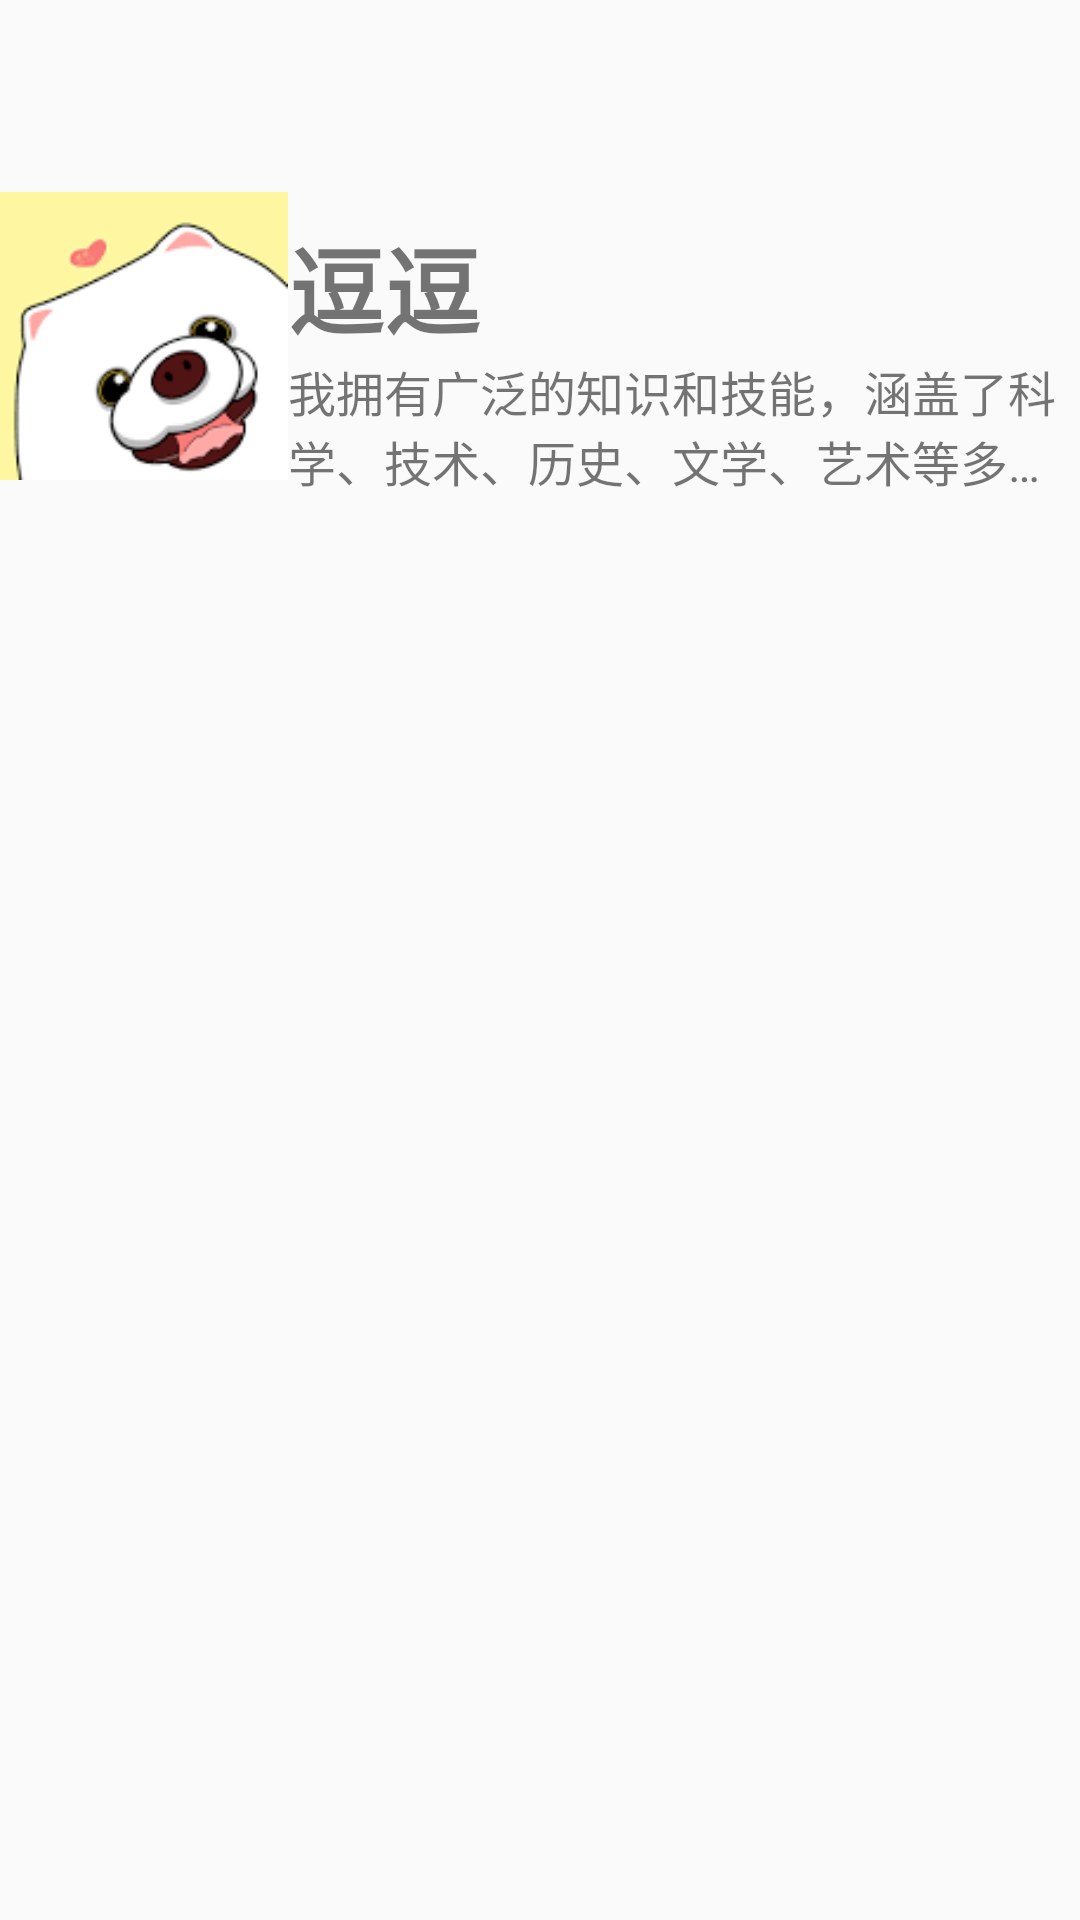

Icon bounding boxes for this 1080 × 1920 phone screenshot, format {"x1": x1, "y1": y1, "x2": x2, "y2": y2}:
head: {"x1": 0, "y1": 192, "x2": 288, "y2": 480}
